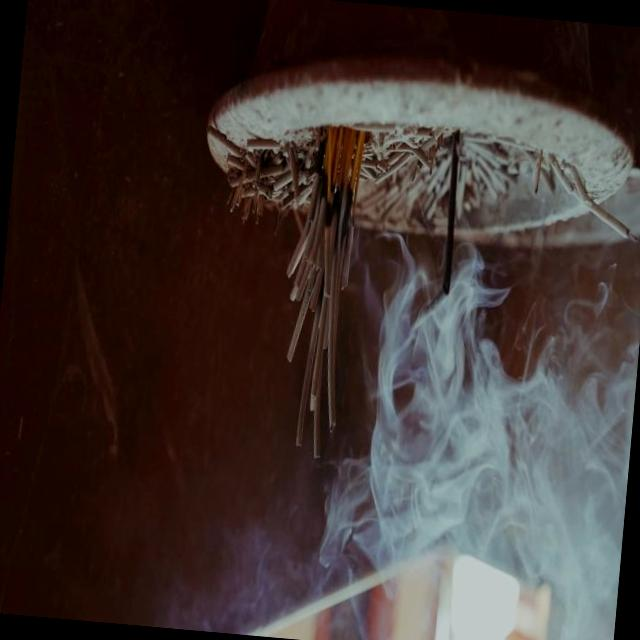smoke: (295, 265, 640, 640)
